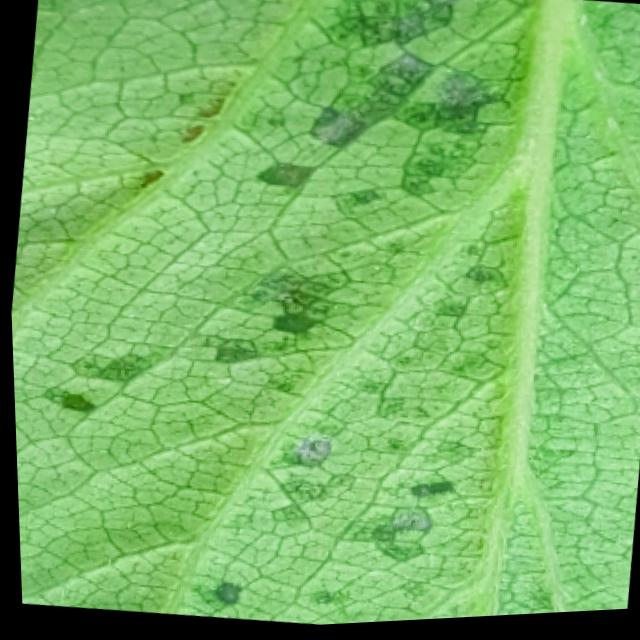Angular Leafspot: (25, 0, 527, 628)
